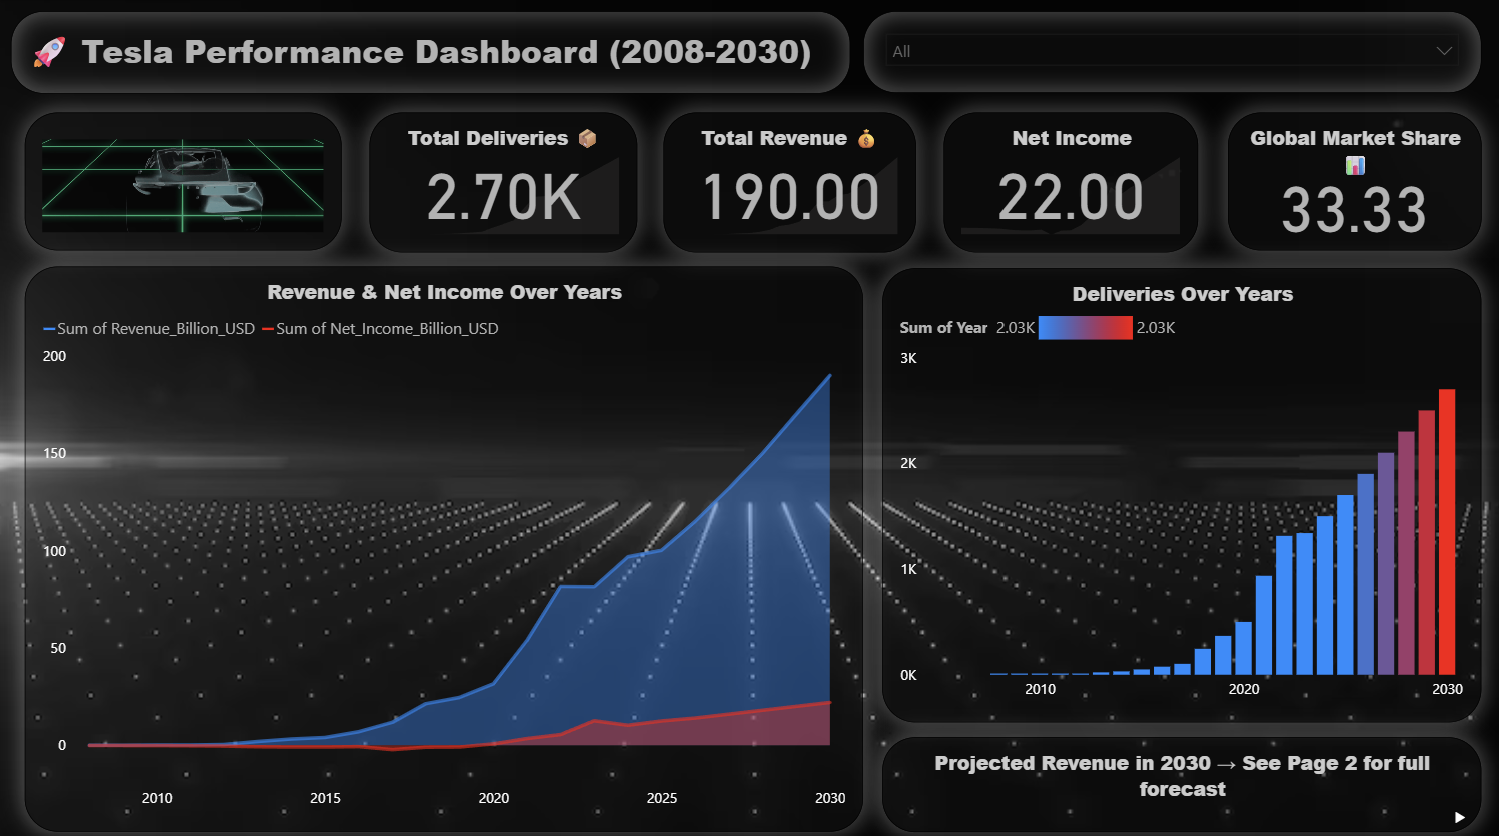

Layout of this report page (visuals, bound fields, positions):
{"tool":"powerbi","page":{"name":"Page 1","canvas":[1280,720],"ordinal":0},"visuals":[{"type":"textbox","box":[13.3,11.7,713.3,70],"z":0},{"type":"kpi","title":"Total Deliveries 📦","fields":{"Indicator":["Sum(Tesla_Futuristic_Dashboard.Deliveries_Thousands)"],"TrendLine":["Tesla_Futuristic_Dashboard.Year"]},"box":[318.1,98.1,227.4,118.9],"z":1000},{"type":"kpi","title":"Total Revenue 💰","fields":{"Indicator":["Sum(Tesla_Futuristic_Dashboard.Revenue_Billion_USD)"],"TrendLine":["Tesla_Futuristic_Dashboard.Year"]},"box":[567.8,98.1,214,118.9],"z":2000},{"type":"kpi","title":"Net Income","fields":{"Indicator":["Sum(Tesla_Futuristic_Dashboard.Net_Income_Billion_USD)"],"TrendLine":["Tesla_Futuristic_Dashboard.Year"]},"box":[805.6,98.1,215.5,118.9],"z":3000},{"type":"kpi","title":"Global Market Share 📊","fields":{"Indicator":["Tesla_Futuristic_Dashboard.Global Share %"],"TrendLine":["Tesla_Futuristic_Dashboard.Year"]},"box":[1046.4,98.1,215.5,117.4],"z":4000},{"type":"columnChart","fields":{"Category":["Table.Column1"],"Y":["CountNonNull(Table.Column1)"]},"box":[25.3,98.1,269,117.4],"z":5000},{"type":"areaChart","title":"Revenue & Net Income Over Years","fields":{"Category":["Tesla_Futuristic_Dashboard.Year"],"Y":["Sum(Tesla_Futuristic_Dashboard.Revenue_Billion_USD)","Sum(Tesla_Futuristic_Dashboard.Net_Income_Billion_USD)"]},"box":[25.3,228.9,712,480.1],"z":6000},{"type":"columnChart","title":"Deliveries Over Years","fields":{"Category":["Tesla_Futuristic_Dashboard.Year"],"Y":["Sum(Tesla_Futuristic_Dashboard.Deliveries_Thousands)"]},"box":[754.2,230.7,507.9,385.6],"z":7000},{"type":"slicer","fields":{"Values":["Tesla_Futuristic_Dashboard.Year"]},"box":[737.3,11.9,524.7,69.9],"z":8000},{"type":"card","title":"Projected Revenue in 2030 → See Page 2 for full forecast","fields":{"Values":["Tesla_Futuristic_Dashboard.Projected Revenue 2030"]},"box":[754.2,628.7,507.9,80.5],"z":8001}]}

Visuals, with their boxes in screenshot pixels (x1, y1, x2, y2), scaled from the page's 1280x720 canvas onto the 1499x836 screenshot:
textbox: (16, 14, 851, 95)
"Total Deliveries 📦" kpi: (373, 114, 639, 252)
"Total Revenue 💰" kpi: (665, 114, 916, 252)
"Net Income" kpi: (943, 114, 1196, 252)
"Global Market Share 📊" kpi: (1225, 114, 1478, 250)
columnChart - Table.Column1 x CountNonNull(Table.Column1): (30, 114, 345, 250)
"Revenue & Net Income Over Years" areaChart: (30, 266, 863, 823)
"Deliveries Over Years" columnChart: (883, 268, 1478, 716)
slicer - Tesla_Futuristic_Dashboard.Year: (863, 14, 1478, 95)
"Projected Revenue in 2030 → See Page 2 for full forecast" card: (883, 730, 1478, 823)
